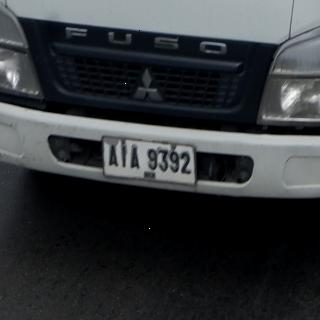license: (104, 138, 197, 186)
